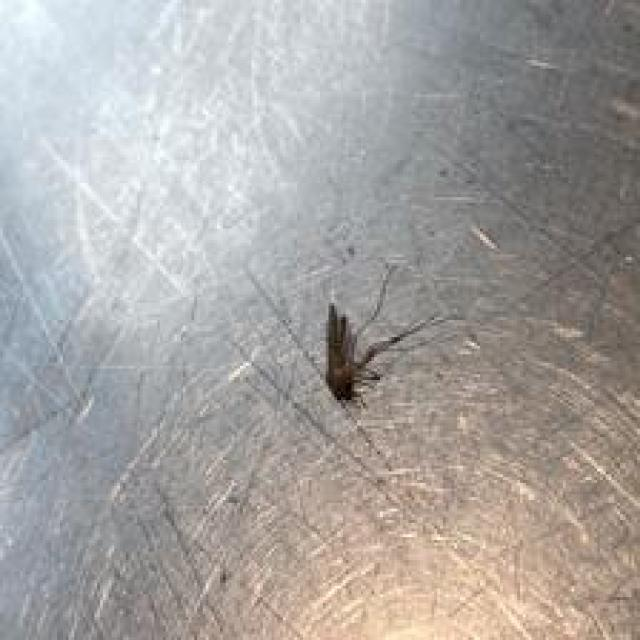Culex: (322, 299, 442, 410)
